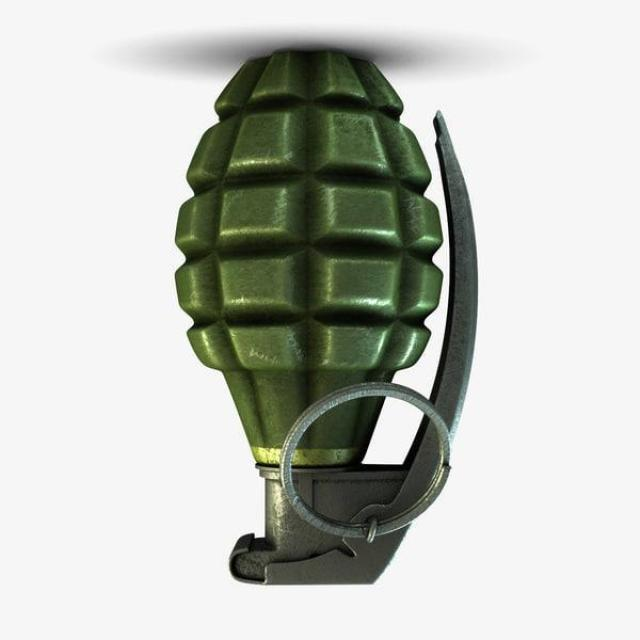grenade: (177, 49, 480, 588)
